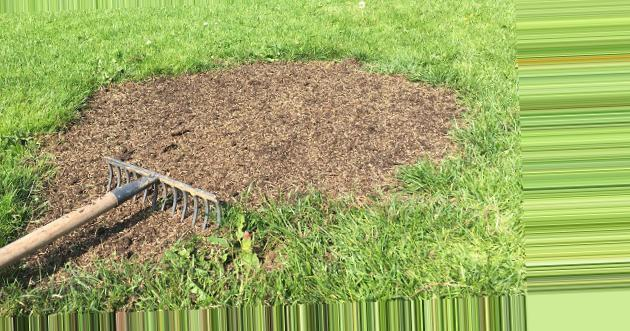patch: (214, 87, 380, 165), (120, 112, 200, 148), (395, 93, 444, 136), (220, 168, 291, 196), (147, 80, 199, 111), (289, 62, 343, 83), (87, 235, 122, 261), (134, 215, 172, 237)
